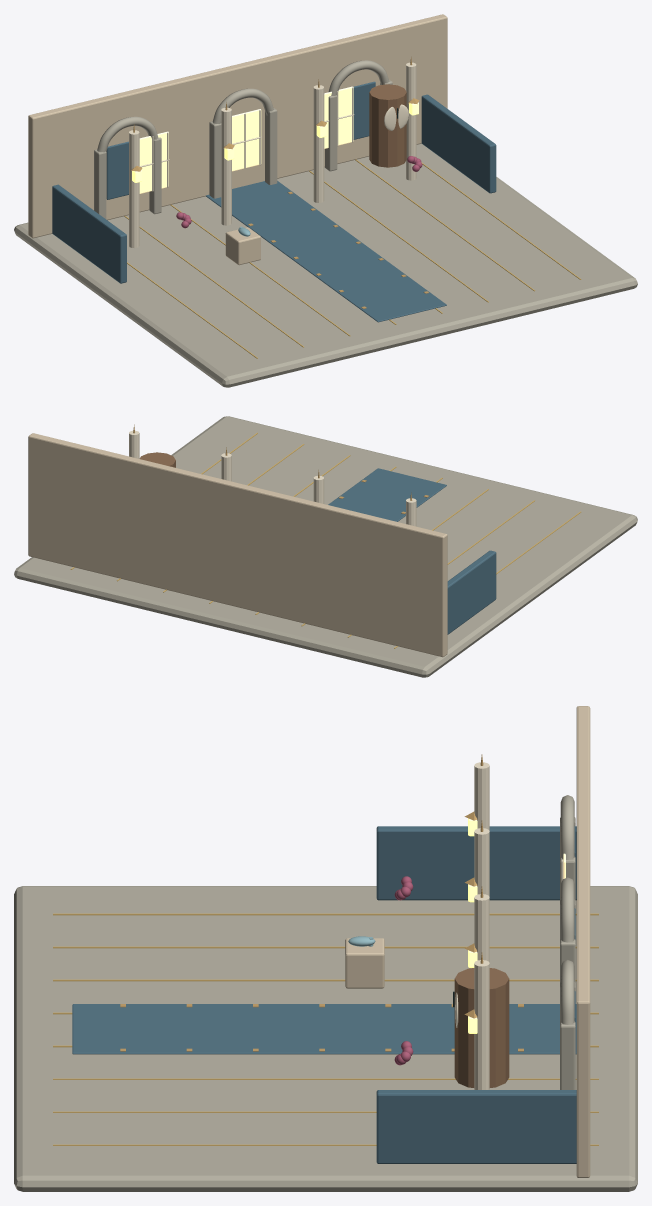
Rendered from cinder_ball-bofCOACs.glb.
3 renders of one model, top to bottom at view 1: azimuth 30°, elevation 25°; view 2: azimuth 150°, elevation 25°; view 3: azimuth 270°, elevation 25°, orthographic. The views are drawn at different scales.
Visible parts, largest first — view 1: world_stone.027, world_Story secondary.002, world_Story primary.002, world_cream.027, world_Window pearl glow.001, world_wood.027, world_Story accent.002; view 2: world_Story secondary.002, world_stone.027, world_Story primary.002, world_cream.027, world_Story accent.002; view 3: world_stone.027, world_Story primary.002, world_Story secondary.002, world_Story accent.002, world_cream.027, world_wood.027, world_brass.027.
Part boxes in pixels (left/top/right/bottom): world_stone.027: left=14, top=60, right=637, bottom=387; world_Story secondary.002: left=28, top=14, right=447, bottom=265; world_Story primary.002: left=52, top=81, right=496, bottom=322; world_cream.027: left=129, top=62, right=416, bottom=247; world_Window pearl glow.001: left=139, top=86, right=353, bottom=193; world_wood.027: left=369, top=84, right=406, bottom=167; world_Story accent.002: left=124, top=159, right=581, bottom=358; world_Story secondary.002: left=28, top=433, right=447, bottom=657; world_stone.027: left=14, top=416, right=637, bottom=677; world_Story primary.002: left=328, top=468, right=496, bottom=634; world_cream.027: left=129, top=430, right=416, bottom=526; world_Story accent.002: left=70, top=432, right=581, bottom=648; world_stone.027: left=14, top=795, right=637, bottom=1191; world_Story primary.002: left=72, top=826, right=576, bottom=1163; world_Story secondary.002: left=345, top=706, right=590, bottom=1177; world_Story accent.002: left=53, top=913, right=598, bottom=1145; world_cream.027: left=455, top=762, right=563, bottom=1089; world_wood.027: left=454, top=968, right=509, bottom=1087; world_brass.027: left=120, top=754, right=523, bottom=1051.
Bounding box in the file's own units: 18 × 5.52 × 16.
